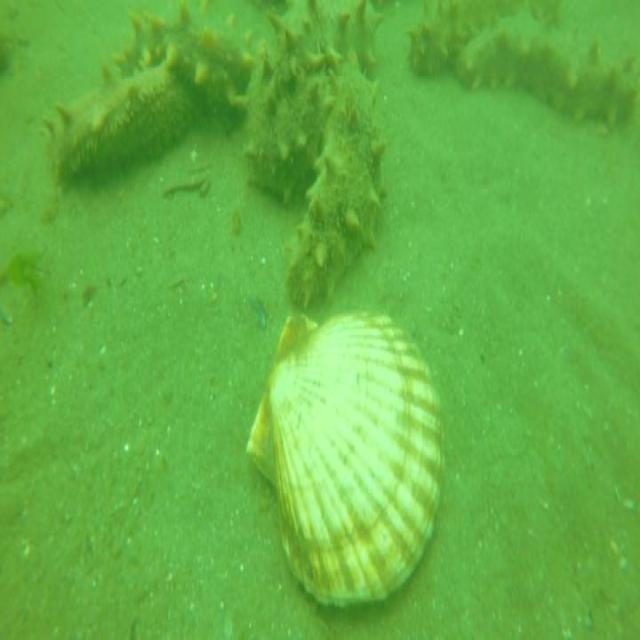holothurian: (242, 0, 386, 209), (278, 48, 388, 308), (454, 6, 640, 133), (40, 63, 192, 201), (112, 1, 252, 130), (404, 0, 549, 85)
scallop: (242, 306, 450, 626)
